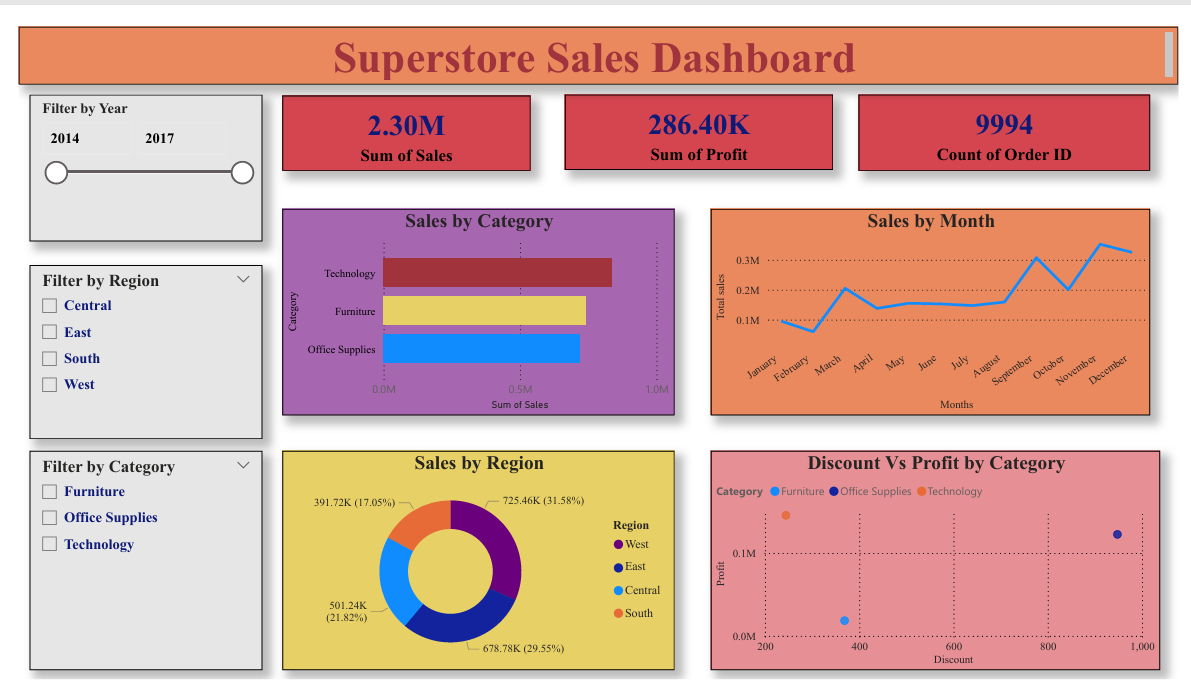

The dashboard page shown, as its layout file describes it:
{"tool":"powerbi","page":{"name":"Page 1","canvas":[1280,720],"ordinal":0},"visuals":[{"type":"clusteredBarChart","title":"Sales by Category","fields":{"Category":["superstore_clean.Category"],"Y":["Sum(superstore_clean.Sales)"]},"box":[291,200.5,432.9,228.7],"z":0},{"type":"donutChart","title":"Sales by Region","fields":{"Category":["superstore_clean.Region"],"Y":["Sum(superstore_clean.Sales)"]},"box":[291,468.3,432.9,242.1],"z":1000},{"type":"lineChart","title":" Sales by Month","fields":{"Category":["superstore_clean.Order Date.Variation.Date Hierarchy.Month"],"Y":["Sum(superstore_clean.Sales)"]},"box":[764.3,200.5,484.2,228.7],"z":2000},{"type":"scatterChart","title":"Discount Vs Profit by Category","fields":{"X":["Sum(superstore_clean.Discount)"],"Y":["Sum(superstore_clean.Profit)"],"Series":["superstore_clean.Category"]},"box":[764.3,468.3,495.2,242.1],"z":3000},{"type":"card","fields":{"Values":["Sum(superstore_clean.Sales)"]},"box":[291,75.8,273.9,83.2],"z":4000},{"type":"card","fields":{"Values":["Sum(superstore_clean.Profit)"]},"box":[602.9,74.6,295.9,83.2],"z":5000},{"type":"card","fields":{"Values":["CountNonNull(superstore_clean.Order ID)"]},"box":[926.9,74.6,321.6,84.4],"z":6000},{"type":"textbox","box":[0,0,1280.3,63.6],"z":7000},{"type":"slicer","fields":{"Values":["superstore_clean.Order Year"]},"box":[12.2,74.6,256.8,162.6],"z":8000},{"type":"slicer","fields":{"Values":["superstore_clean.Region"]},"box":[12.2,262.9,256.8,192],"z":8001},{"type":"slicer","fields":{"Values":["superstore_clean.Category"]},"box":[12,468,257,242],"z":8002}]}

Visuals, with their boxes in screenshot pixels (x1, y1, x2, y2):
"Sales by Category" clusteredBarChart: rect(279, 206, 677, 416)
"Sales by Region" donutChart: rect(279, 451, 677, 674)
" Sales by Month" lineChart: rect(714, 206, 1158, 416)
"Discount Vs Profit by Category" scatterChart: rect(714, 451, 1168, 674)
card - Sum(superstore_clean.Sales): rect(279, 91, 531, 168)
card - Sum(superstore_clean.Profit): rect(566, 90, 837, 167)
card - CountNonNull(superstore_clean.Order ID): rect(863, 90, 1158, 168)
textbox: rect(12, 22, 1187, 80)
slicer - superstore_clean.Order Year: rect(24, 90, 259, 239)
slicer - superstore_clean.Region: rect(24, 263, 259, 439)
slicer - superstore_clean.Category: rect(23, 451, 259, 673)
